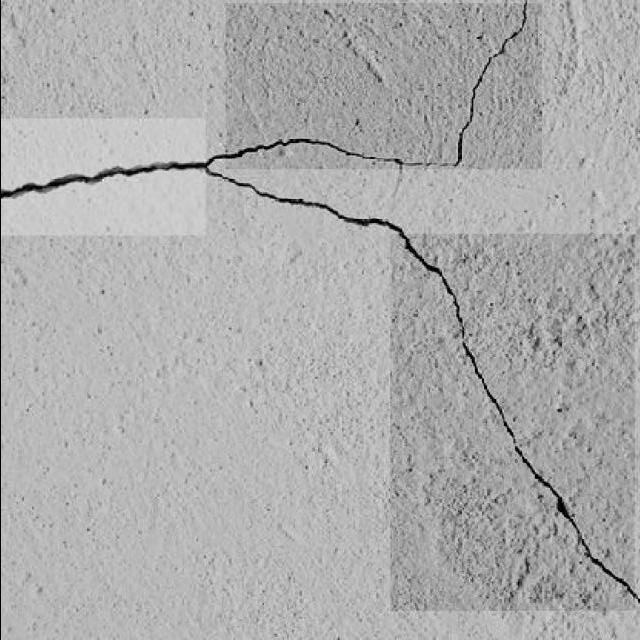SurfaceCrack: (378, 232, 640, 612), (220, 0, 542, 180), (0, 128, 404, 234)
